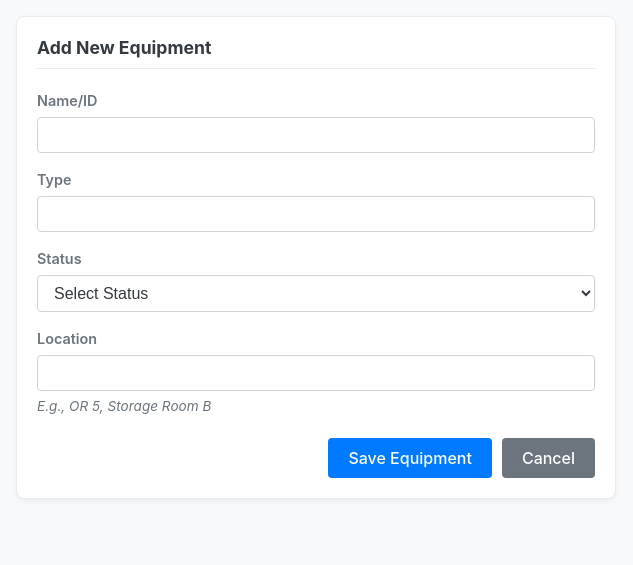
Test case: AddEquipmentForm › resets form and clears errors on cancel
# Put some data in the form and trigger validation to show errors
Type "Some Data" into the field with id "equipment-name" at (316, 135), box [37,117,595,153]
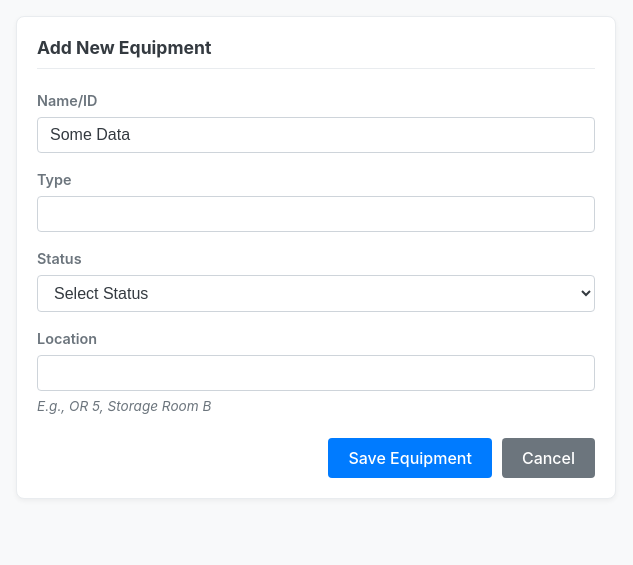
Submit the form
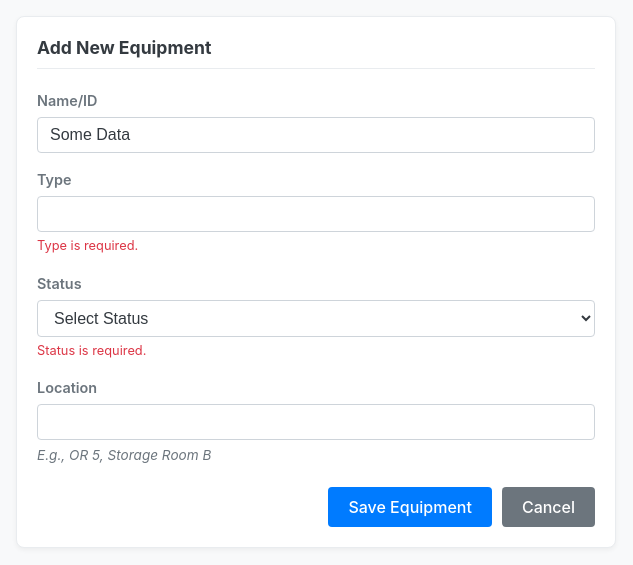
Expected: the text "Type is required." is shown, [37,238,138,253]
# Click cancel
Click the button "Cancel" at (548, 507), box [502,487,595,527]
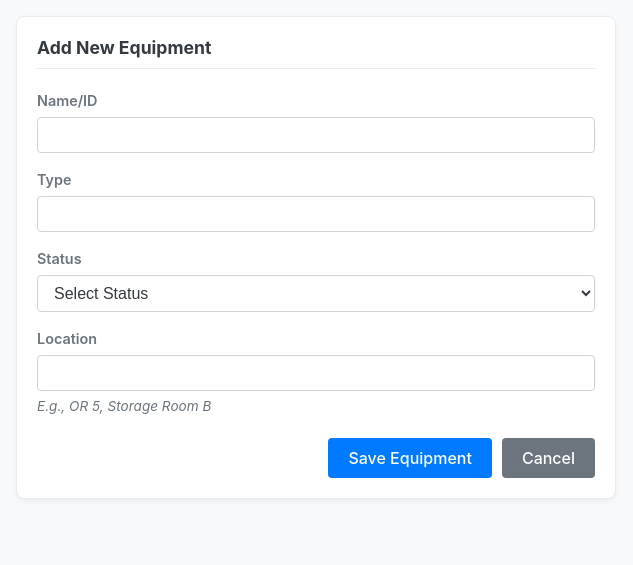
Expected: the field with id "equipment-type" is empty, [37,196,595,232]
Expected: the field with id "equipment-name" is empty, [37,117,595,153]
